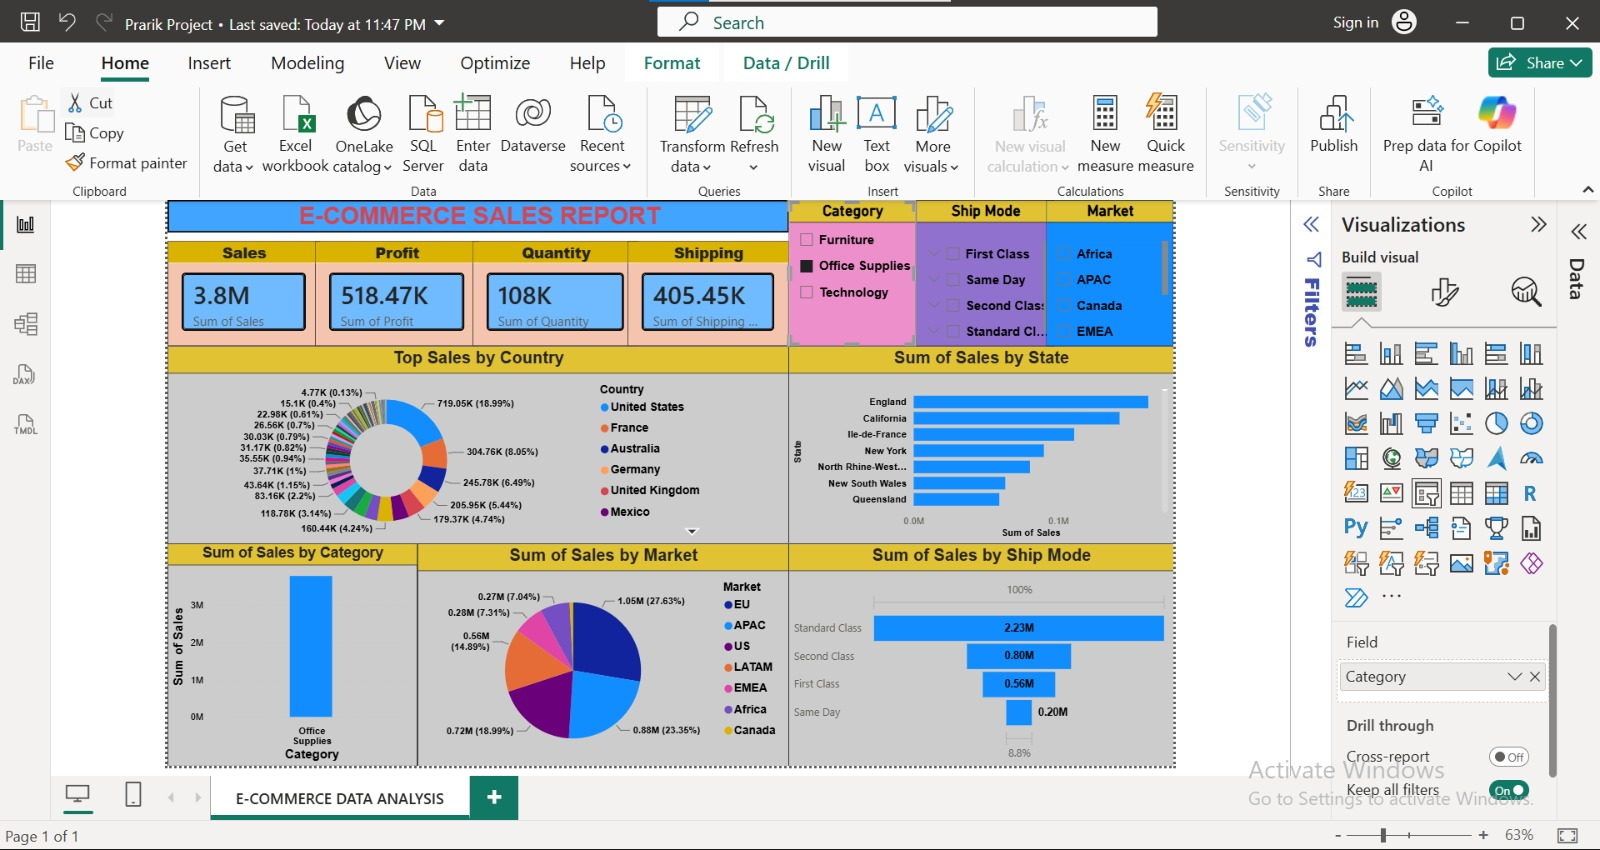

Layout of this report page (visuals, bound fields, positions):
{"tool":"powerbi","page":{"name":"E-COMMERCE DATA ANALYSIS","canvas":[1280,720],"ordinal":0},"visuals":[{"type":"donutChart","title":"Top Sales by Country","fields":{"Y":["Sum(Orders.Sales)"],"Category":["Orders.Country"]},"box":[0,186.1,790.5,251.3],"z":0},{"type":"cardVisual","title":"Sales","fields":{"Data":["Sum(Orders.Sales)"]},"box":[0,52.5,194.1,133.6],"z":1000},{"type":"cardVisual","title":"Profit","fields":{"Data":["Sum(Orders.Profit)"]},"box":[187.7,52.5,208.4,133.6],"z":2000},{"type":"cardVisual","title":"Quantity","fields":{"Data":["Sum(Orders.Quantity)"]},"box":[388.1,52.5,211.6,133.6],"z":3000},{"type":"cardVisual","title":"Shipping","fields":{"Data":["Sum(Orders.Shipping Cost)"]},"box":[585.3,52.5,205.2,133.6],"z":4000},{"type":"pieChart","fields":{"Y":["Sum(Orders.Sales)"],"Category":["Orders.Market"]},"box":[318.1,437.4,472.4,283.1],"z":5000},{"type":"columnChart","fields":{"Y":["Sum(Orders.Sales)"],"Category":["Orders.Category"]},"box":[0,437.4,318.1,283],"z":6000},{"type":"funnel","fields":{"Category":["Orders.Ship Mode"],"Y":["Sum(Orders.Sales)"]},"box":[790.5,437.4,489.9,283.1],"z":7000},{"type":"textbox","title":"E-COMMERCE SALES REPORT","box":[0,0,790.5,41.4],"z":8000},{"type":"slicer","title":"Category ","fields":{"Values":["Orders.Category"]},"box":[790.5,0,162.2,186.1],"z":9000},{"type":"slicer","title":"Ship Mode ","fields":{"Values":["Orders.Ship Mode","Orders.State"]},"box":[952.8,0,176.6,186.1],"z":10000},{"type":"slicer","title":"Market ","fields":{"Values":["Orders.Market"]},"box":[1118.2,0,162.2,186.1],"z":11000},{"type":"barChart","fields":{"Category":["Orders.State"],"Y":["Sum(Orders.Sales)"]},"box":[790.5,186.1,489.9,251.3],"z":12000}]}

Visuals, with their boxes on the page's 1280x720 design canvas (x1, y1, x2, y2). These are canvas units, not pixel positions in the 1600x850 screenshot, which may show the page scaled, cropped or inside an application window:
"Top Sales by Country" donutChart: region(0, 186, 790, 437)
"Sales" cardVisual: region(0, 52, 194, 186)
"Profit" cardVisual: region(188, 52, 396, 186)
"Quantity" cardVisual: region(388, 52, 600, 186)
"Shipping" cardVisual: region(585, 52, 790, 186)
pieChart - Sum(Orders.Sales) x Orders.Market: region(318, 437, 790, 720)
columnChart - Sum(Orders.Sales) x Orders.Category: region(0, 437, 318, 720)
funnel - Orders.Ship Mode x Sum(Orders.Sales): region(790, 437, 1280, 720)
"E-COMMERCE SALES REPORT" textbox: region(0, 0, 790, 41)
"Category " slicer: region(790, 0, 953, 186)
"Ship Mode " slicer: region(953, 0, 1129, 186)
"Market " slicer: region(1118, 0, 1280, 186)
barChart - Orders.State x Sum(Orders.Sales): region(790, 186, 1280, 437)
